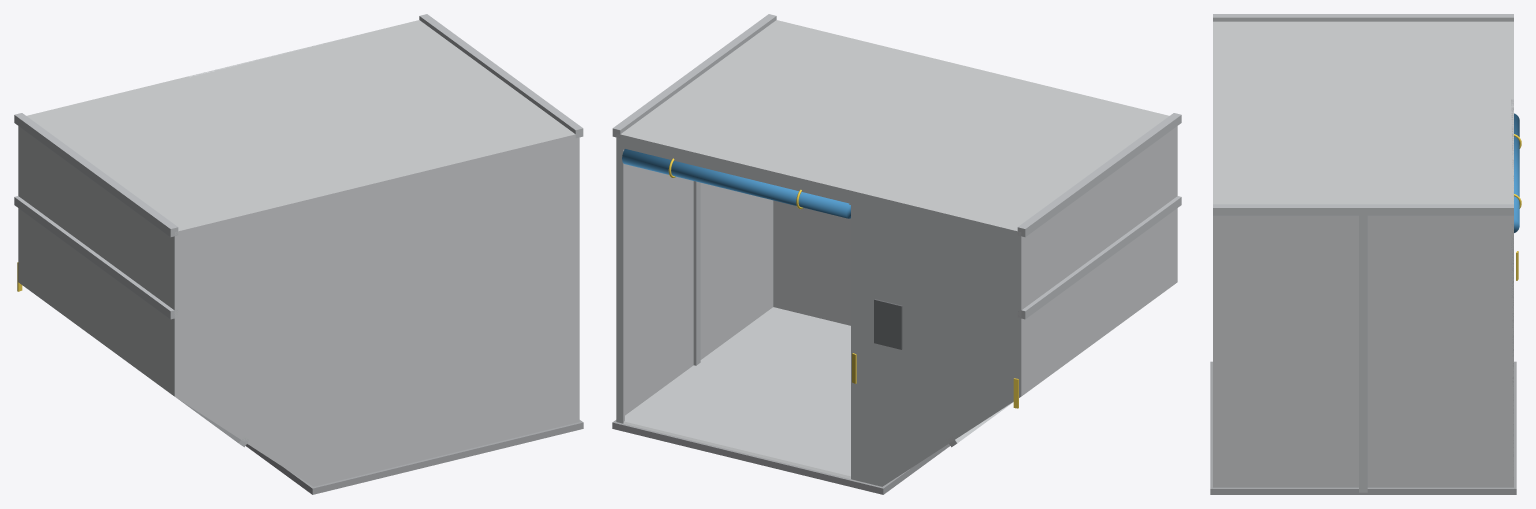
File: ULD OPEN.fbx
The picture shows the model from 3 angles, left to right: view 1: azimuth 30°, elevation 25°; view 2: azimuth 150°, elevation 25°; view 3: azimuth 270°, elevation 25°; orthographic projection. The views are drawn at different scales.
Visible parts, largest first — view 1: ULD_Body_Shell, ULD_Base_Pallet, ULD_Frame_Extrusion_00, ULD_Frame_Extrusion_03, ULD_Frame_Extrusion_01; view 2: ULD_Body_Shell, Door_Curtain_RolledUp, ULD_Base_Pallet, ULD_Frame_Extrusion_00, ULD_Frame_Extrusion_03, ULD_Frame_Extrusion_01, ULD_Frame_Extrusion_02, Document_Manifest_Pouch; view 3: ULD_Body_Shell, ULD_Frame_Extrusion_01, ULD_Base_Pallet, ULD_Frame_Extrusion_02, ULD_Frame_Extrusion_00, Door_Curtain_RolledUp.
Part boxes in pixels (x1,y1,x2,y2): ULD_Body_Shell: [18, 20, 579, 486]; ULD_Base_Pallet: [245, 420, 583, 494]; ULD_Frame_Extrusion_00: [14, 113, 178, 237]; ULD_Frame_Extrusion_03: [14, 196, 178, 319]; ULD_Frame_Extrusion_01: [419, 14, 583, 138]; ULD_Body_Shell: [616, 20, 1177, 486]; Door_Curtain_RolledUp: [622, 149, 850, 218]; ULD_Base_Pallet: [612, 420, 950, 494]; ULD_Frame_Extrusion_00: [1017, 113, 1181, 237]; ULD_Frame_Extrusion_03: [1018, 196, 1181, 319]; ULD_Frame_Extrusion_01: [612, 14, 776, 138]; ULD_Frame_Extrusion_02: [693, 73, 700, 365]; Document_Manifest_Pouch: [874, 299, 902, 349]; ULD_Body_Shell: [1213, 21, 1513, 487]; ULD_Frame_Extrusion_01: [1213, 204, 1513, 215]; ULD_Base_Pallet: [1210, 361, 1516, 494]; ULD_Frame_Extrusion_02: [1359, 209, 1367, 492]; ULD_Frame_Extrusion_00: [1213, 14, 1513, 21]; Door_Curtain_RolledUp: [1514, 113, 1519, 232].
Bounding box in the file's own units: 238 × 165 × 162.
